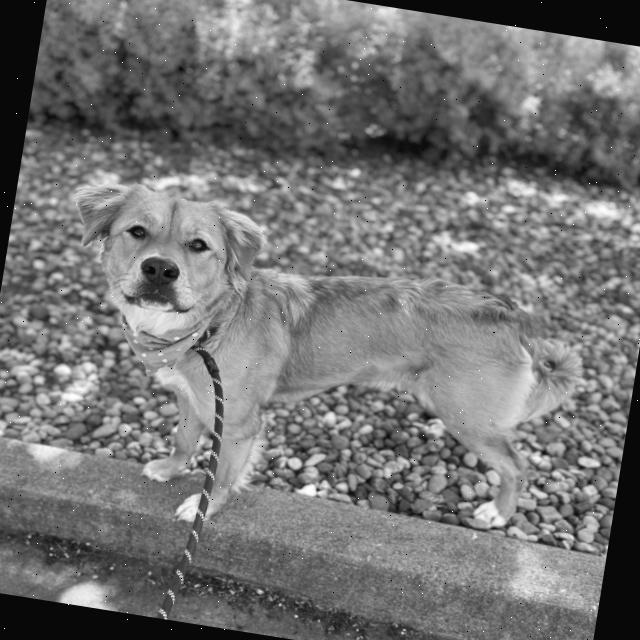golden_retriever_dog: (49, 166, 280, 360)
